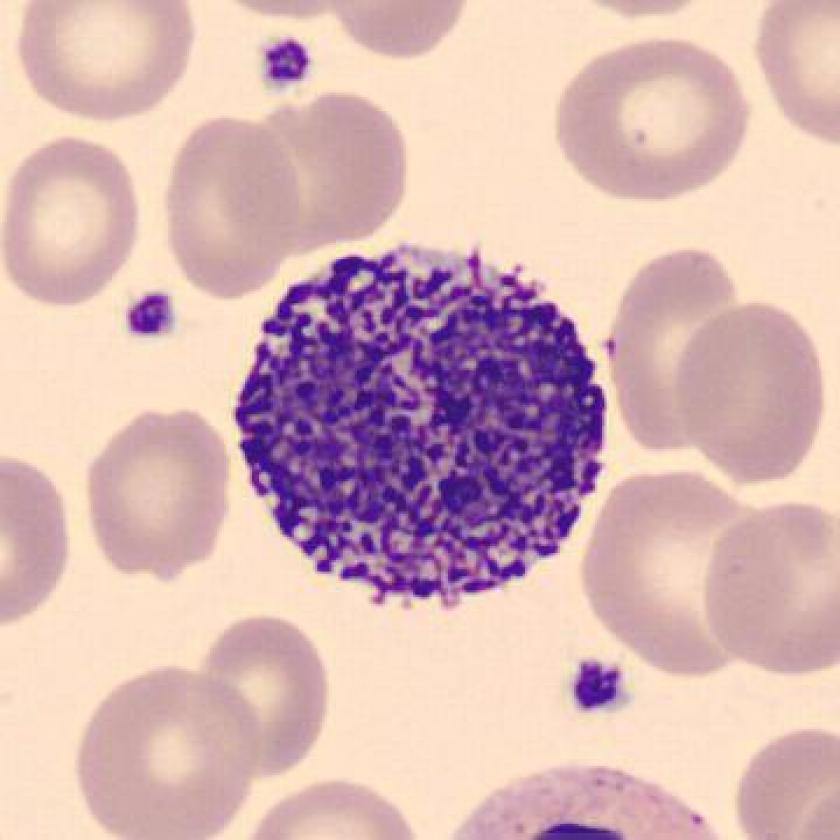basophil: (228, 240, 620, 617)
